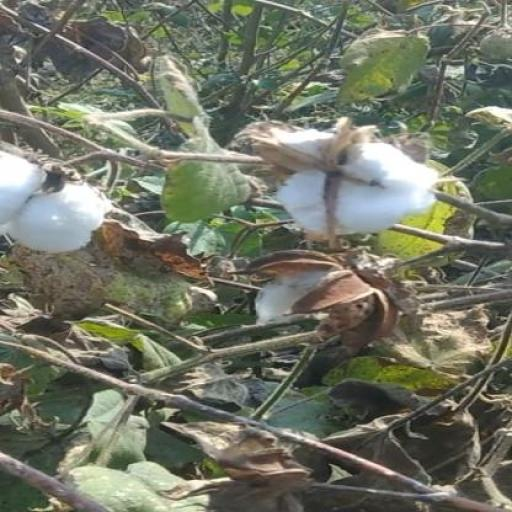cotton_ready: (262, 123, 422, 249)
